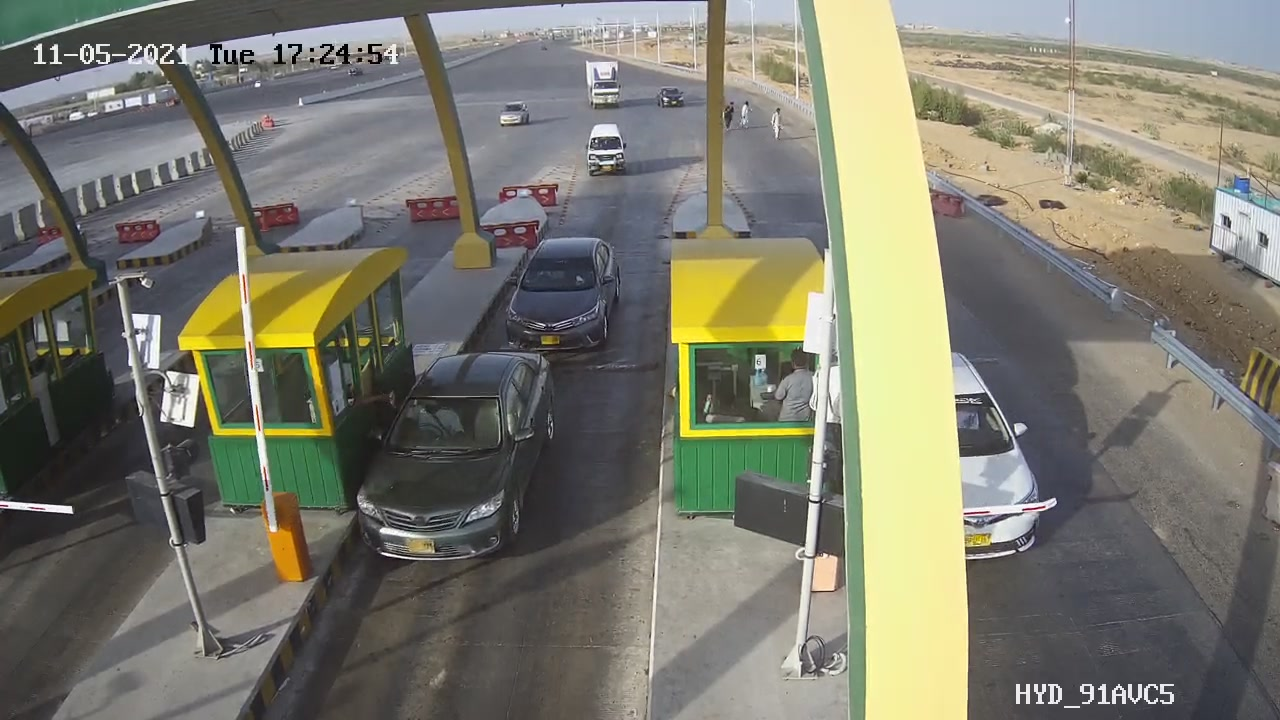F1: (335, 331, 581, 581), (486, 226, 640, 369)
